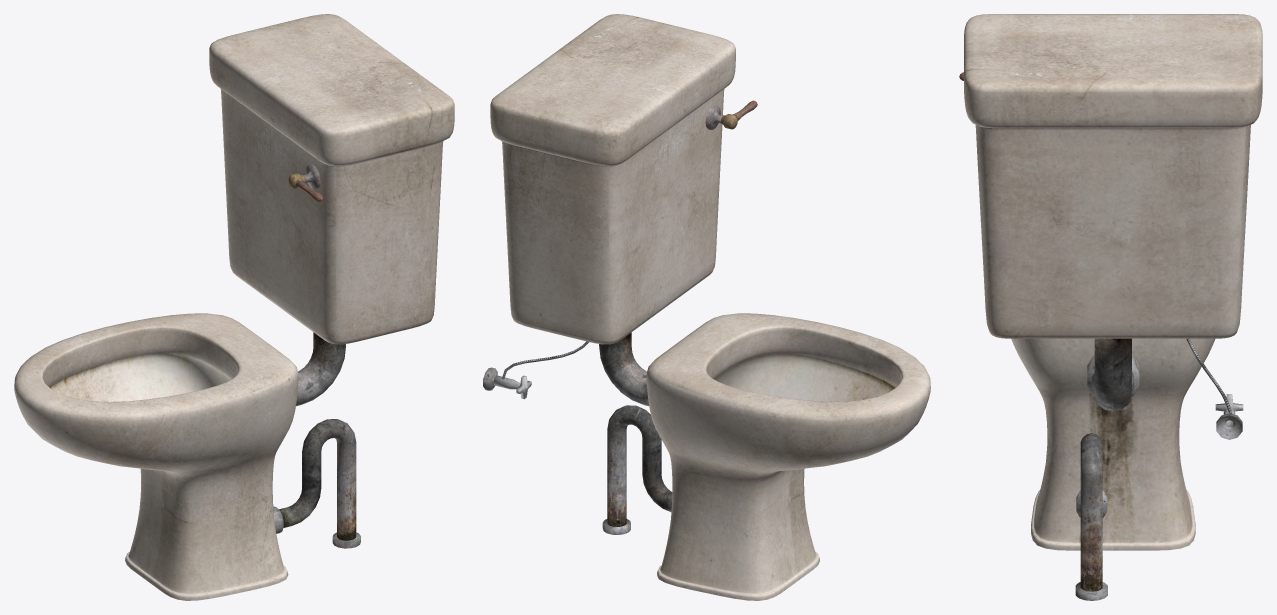
Rendered from Toilet.obj.
3 views of the same model, side by side, from view 1: azimuth 30°, elevation 25°; view 2: azimuth 150°, elevation 25°; view 3: azimuth 270°, elevation 25° (orthographic). The views are drawn at different scales.
Visible parts, largest first — view 1: Toilet:Mesh; view 2: Toilet:Mesh; view 3: Toilet:Mesh.
Part boxes in pixels (x1,y1,x2,y2): Toilet:Mesh: [14, 14, 454, 600]; Toilet:Mesh: [483, 14, 930, 600]; Toilet:Mesh: [959, 14, 1262, 600].
Size of the model in its own units: 2.78 by 3.24 by 1.64.
1 material, 1 textured.
